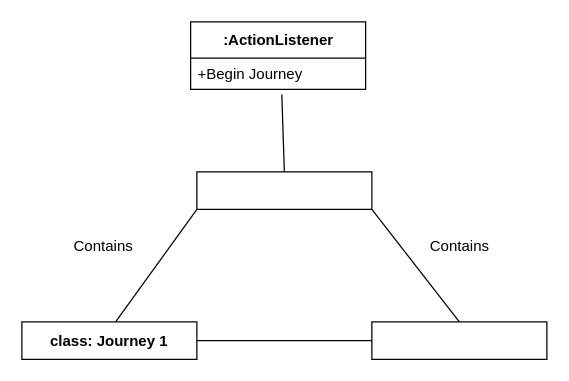
Image size: 569x381. Some labels were removed from this diagram. The centre of each missing label's shape, as x and y in pixels:
"class: Begin Journey" belongs at point 284,190.
"class: Journey 2" belongs at point 459,340.
